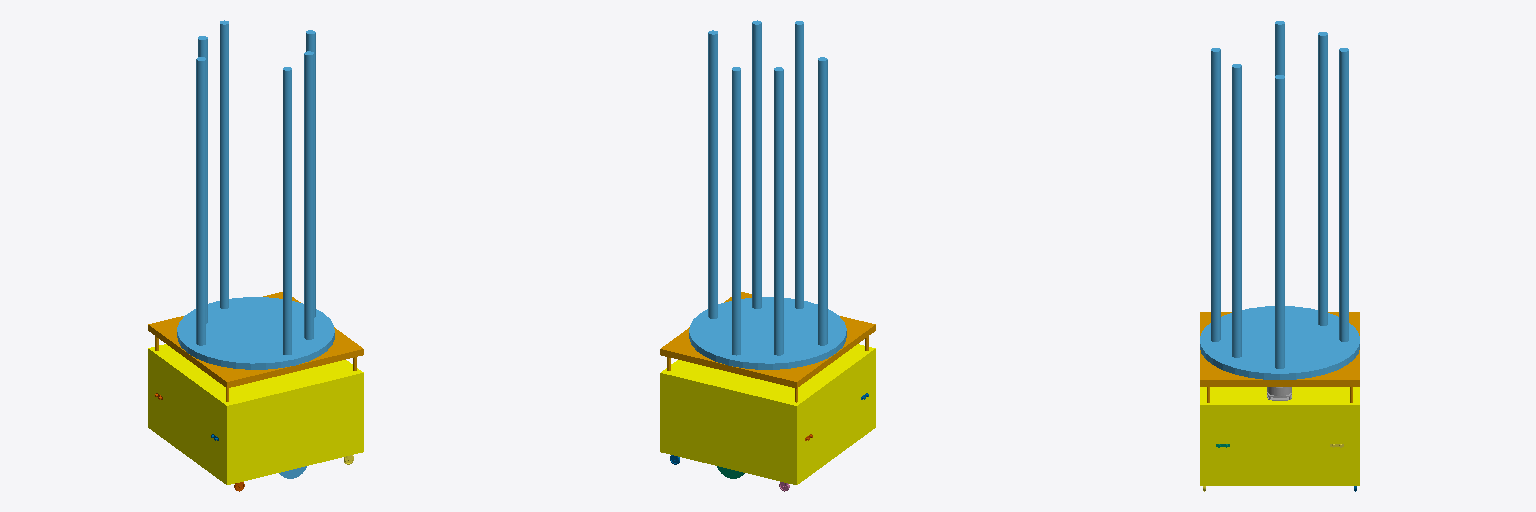
The robot description file, URDF, robot "uvd":
<?xml version="1.0" encoding="utf-8"?>

<robot
  name="uvd" xmlns:xacro="https://www.ros.org/wiki/xacro">
 

  <link
    name="base_footprint">
    <inertial>
      <origin
        xyz="0.0 0.0 0.0"
        rpy="0 0 0" />
      <mass
        value="10" />
      <inertia
        ixx="0.01"
        ixy="0.0"
        ixz="0.0"
        iyy="0.01"
        iyz="0.0"
        izz="0.01" />
    </inertial>
    <visual>
      <origin
        xyz="0 0 0"
        rpy="0 0 0" />
      <geometry>
        <mesh
          filename="package://uvd_description/meshes/base.stl" />
      </geometry>
      <material
        name="">
        <color
          rgba="1 1 0 1" />
      </material>
    </visual>
    <collision>
      <origin
        xyz="0 0 0"
        rpy="0 0 0" />
      <geometry>
	  <box size="0.45 0.45 0.25" />
      </geometry>
    </collision>
  </link>


  <link
    name="back_right_wheel">
    <inertial>
      <origin
        xyz="0.0 0.0 0.0"
        rpy="0 0 0" />
      <mass
        value="3" />
      <inertia
        ixx="0.01"
        ixy="0.0"
        ixz="0.0"
        iyy="0.01"
        iyz="0.0"
        izz="0.01" />
    </inertial>
    <visual>
      <origin
        xyz="0 0 0"
        rpy="0 0 0" />
      <geometry>
        <mesh
          filename="package://uvd_description/meshes/wheel.stl" />
      </geometry>
    </visual>
    <collision>
      <origin
        xyz="0 0 0"
        rpy="0 1.57075 1.57075" />
      <geometry>
	  <cylinder length="0.03" radius="0.05"/>
      </geometry>
    </collision>
  </link>
  <joint
    name="back_right_wheel_joint"
    type="continuous">
    <origin
      xyz="0 -0.2 -0.11"
      rpy="0 0 3.1416" />
    <parent
      link="base_footprint" />
    <child
      link="back_right_wheel" />
    <axis
      xyz="0 -1 0" />
  </joint>
  <link
    name="back_left_wheel">
    <inertial>
      <origin
        xyz="0.0 0.0 0.0"
        rpy="0 0 0" />
      <mass
        value="3" />
      <inertia
        ixx="0.01"
        ixy="0.0"
        ixz="0.0"
        iyy="0.01"
        iyz="0.0"
        izz="0.01" />
    </inertial>
    <visual>
      <origin
        xyz="0 0 0"
        rpy="0 0 0" />
      <geometry>
        <mesh
          filename="package://uvd_description/meshes/wheel.stl" />
      </geometry>
    </visual>
    <collision>
      <origin
        xyz="0 0 0"
        rpy="0 1.57075 1.57075" />
      <geometry>
	  <cylinder length="0.03" radius="0.05"/>
      </geometry>
    </collision>
  </link>
  <joint
    name="back_left_wheel_joint"
    type="continuous">
    <origin
      xyz="0 0.2 -0.11"
      rpy="0 0 0" />
    <parent
      link="base_footprint" />
    <child

      link="back_left_wheel" />
    <axis
      xyz="0 1 0" />
  </joint>

  <gazebo>
    <plugin filename="libgazebo_ros_diff_drive.so" name="differential_drive_controller_front">
      <legacyMode>false</legacyMode>
      <alwaysOn>true</alwaysOn>
      <updateRate>10</updateRate>
      <leftJoint>back_left_wheel_joint</leftJoint>
      <rightJoint>back_right_wheel_joint</rightJoint>
      <wheelSeparation>0.4</wheelSeparation>
      <wheelDiameter>0.2</wheelDiameter>
      <torque>10</torque>
      <commandTopic>cmd_vel</commandTopic>
      <odometryFrame>odom</odometryFrame>
      <odometryTopic>odom</odometryTopic>
      <robotBaseFrame>base_footprint</robotBaseFrame>
    </plugin>
  </gazebo>


  <link
    name="front_caster_right_wheel">
    <inertial>
      <origin
        xyz="0.0 0.0 0.0"
        rpy="0 0 0" />
      <mass
        value="3" />
      <inertia
        ixx="0.01"
        ixy="0.0"
        ixz="0.0"
        iyy="0.01"
        iyz="0.0"
        izz="0.01" />
    </inertial>
    <visual>
      <origin
        xyz="0 0 0"
        rpy="0 0 0" />
      <geometry>
        <mesh
          filename="package://uvd_description/meshes/caster.stl" />
      </geometry>
    </visual>
    <collision>
      <origin
        xyz="0.005 0 -0.0085"
        rpy="0 0 0" />
      <geometry>
	  <box size="0.037942 0.014811 0.037519" />
      </geometry>
    </collision>
  </link>
  <joint
    name="front_caster_right_wheel_joint"
    type="fixed">
    <origin
      xyz="0.18 -0.21 -0.1327"
      rpy="0 0 0" />
    <parent
      link="base_footprint" />
    <child

      link="front_caster_right_wheel" />
    <axis
      xyz="0 0 0" />
  </joint>
  <link
    name="front_caster_left_wheel">
    <inertial>
      <origin
        xyz="0.0 0.0 0.0"
        rpy="0 0 0" />
      <mass
        value="3" />
      <inertia
        ixx="0.01"
        ixy="0.0"
        ixz="0.0"
        iyy="0.01"
        iyz="0.0"
        izz="0.01" />
    </inertial>
    <visual>
      <origin
        xyz="0 0 0"
        rpy="0 0 0" />
      <geometry>
        <mesh
          filename="package://uvd_description/meshes/caster.stl" />
      </geometry>
    </visual>
    <collision>
      <origin
        xyz="0.005 0 -0.0085"
        rpy="0 0 0" />
      <geometry>
	  <box size="0.037942 0.014811 0.037519" />
      </geometry>
    </collision>
  </link>
  <joint
    name="front_caster_left_wheel_joint"
    type="fixed">
    <origin
      xyz="0.18 0.21 -0.1327"
      rpy="0 0 0" />
    <parent
      link="base_footprint" />
    <child
      link="front_caster_left_wheel" />
    <axis
      xyz="0 0 0" />
  </joint>

  <link
    name="back_caster_right_wheel">
    <inertial>
      <origin
        xyz="0.0 0.0 0.0"
        rpy="0 0 0" />
      <mass
        value="3" />
      <inertia
        ixx="0.01"
        ixy="0.0"
        ixz="0.0"
        iyy="0.01"
        iyz="0.0"
        izz="0.01" />
    </inertial>
    <visual>
      <origin
        xyz="0 0 0"
        rpy="0 0 0" />
      <geometry>
        <mesh
          filename="package://uvd_description/meshes/caster.stl" />
      </geometry>
    </visual>
    <collision>
      <origin
        xyz="0.005 0 -0.0085"
        rpy="0 0 0" />
      <geometry>
	  <box size="0.037942 0.014811 0.037519" />
      </geometry>
    </collision>
  </link>
  <joint
    name="back_caster_right_wheel_joint"
    type="fixed">
    <origin
      xyz="-0.18 -0.21 -0.1327"
      rpy="0 0 0" />
    <parent
      link="base_footprint" />
    <child
      link="back_caster_right_wheel" />
    <axis
      xyz="0 0 0" />
  </joint>
  <link
    name="back_caster_left_wheel">
    <inertial>
      <origin
        xyz="0.0 0.0 0.0"
        rpy="0 0 0" />
      <mass
        value="3" />
      <inertia
        ixx="0.01"
        ixy="0.0"
        ixz="0.0"
        iyy="0.01"
        iyz="0.0"
        izz="0.01" />
    </inertial>
    <visual>
      <origin
        xyz="0 0 0"
        rpy="0 0 0" />
      <geometry>
        <mesh
          filename="package://uvd_description/meshes/caster.stl" />
      </geometry>
    </visual>
    <collision>
      <origin
        xyz="0.005 0 -0.0085"
        rpy="0 0 0" />
      <geometry>
	  <box size="0.037942 0.014811 0.037519" />
      </geometry>
    </collision>
  </link>
  <joint
    name="back_caster_left_wheel_joint"
    type="fixed">
    <origin
      xyz="-0.18 0.21 -0.1327"
      rpy="0 0 0" />
    <parent
      link="base_footprint" />
    <child
      link="back_caster_left_wheel" />
    <axis
      xyz="0 0 0" />
  </joint>

  <link
    name="lidar">
    <inertial>
      <origin
        xyz="0.0 0.0 0.0"
        rpy="0 0 0" />
      <mass
        value="3" />
      <inertia
        ixx="0.01"
        ixy="0.0"
        ixz="0.0"
        iyy="0.01"
        iyz="0.0"
        izz="0.01" />
    </inertial>
    <visual>
      <origin
        xyz="0 0 0"
        rpy="0 0 0" />
      <geometry>
        <mesh
          filename="package://uvd_description/meshes/lidar.STL" />
      </geometry>
    </visual>
    <collision>
      <origin
        xyz="0 0 0"
        rpy="0 0 0" />
      <geometry>
        <mesh
          filename="package://uvd_description/meshes/lidar.STL" />
      </geometry>
    </collision>
  </link>
  <joint
    name="lidar_joint"
    type="fixed">
    <origin
      xyz="0.16 0 0.15"
      rpy="0 0 0" />
    <parent
      link="base_footprint" />
    <child
      link="lidar" />
    <axis
      xyz="0 0 0" />
  </joint>

  <gazebo reference="lidar">
    <sensor type="ray" name="lds_lfcd_sensor">
      <pose>0 0 0 0 0 0</pose>
      <visualize>false</visualize>
      <update_rate>5</update_rate>
      <ray>
        <scan>
          <horizontal>
            <samples>360</samples>
            <resolution>1</resolution>
            <min_angle>0.0</min_angle>
            <max_angle>6.28319</max_angle>
          </horizontal>
        </scan>
        <range>
          <min>0.120</min>
          <max>30.0</max>
          <resolution>0.015</resolution>
        </range>
        <noise>
          <type>gaussian</type>
          <mean>0.0</mean>
          <stddev>0.01</stddev>
        </noise>
      </ray>
      <plugin name="gazebo_ros_lds_lfcd_controller" filename="libgazebo_ros_laser.so">
        <topicName>scan</topicName>
        <frameName>lidar</frameName>
      </plugin>
    </sensor>
  </gazebo>


  <link
    name="shelf">
    <inertial>
      <origin
        xyz="0.0 0.0 0.0"
        rpy="0 0 0" />
      <mass
        value="3" />
      <inertia
        ixx="0.01"
        ixy="0.0"
        ixz="0.0"
        iyy="0.01"
        iyz="0.0"
        izz="0.01" />
    </inertial>
    <visual>
      <origin
        xyz="0 0 0"
        rpy="0 0 0" />
      <geometry>
        <mesh
          filename="package://uvd_description/meshes/shelf.stl" />
      </geometry>
    </visual>
    <collision>
      <origin
        xyz="0 0 0"
        rpy="0 0 0" />
      <geometry>
        <mesh
          filename="package://uvd_description/meshes/shelf.stl" />
      </geometry>
    </collision>
  </link>
  <joint
    name="shelf_joint"
    type="fixed">
    <origin
      xyz="0 0 0.19"
      rpy="0 0 0" />
    <parent
      link="base_footprint" />
    <child
      link="shelf" />
    <axis
      xyz="0 0 0" />
  </joint>

  <link
    name="circuler">
    <inertial>
      <origin
        xyz="0.0 0.0 0.0"
        rpy="0 0 0" />
      <mass
        value="3" />
      <inertia
        ixx="0.01"
        ixy="0.0"
        ixz="0.0"
        iyy="0.01"
        iyz="0.0"
        izz="0.01" />
    </inertial>
    <visual>
      <origin
        xyz="0 0 0"
        rpy="0 0 0" />
      <geometry>
        <mesh
          filename="package://uvd_description/meshes/circuler.stl" />
      </geometry>
    </visual>
    <collision>
      <origin
        xyz="0 0 0"
        rpy="0 0 0" />
      <geometry>
        <mesh
          filename="package://uvd_description/meshes/circuler.stl" />
      </geometry>
    </collision>
  </link>
  <joint
    name="circuler_joint"
    type="fixed">
    <origin
      xyz="0 0 0.21"
      rpy="0 0 0" />
    <parent
      link="base_footprint" />
    <child
      link="circuler" />
    <axis
      xyz="0 0 0" />
  </joint>

  <link
    name="fr_sonar">
    <inertial>
      <origin
        xyz="0.0 0.0 0.0"
        rpy="0 0 0" />
      <mass
        value="3" />
      <inertia
        ixx="0.01"
        ixy="0.0"
        ixz="0.0"
        iyy="0.01"
        iyz="0.0"
        izz="0.01" />
    </inertial>
    <visual>
      <origin
        xyz="0 0 0"
        rpy="0 0 0" />
      <geometry>
        <mesh
          filename="package://uvd_description/meshes/sonar.stl" />
      </geometry>
    </visual>
    <collision>
      <origin
        xyz="0 0 0"
        rpy="0 0 0" />
      <geometry>
        <mesh
          filename="package://uvd_description/meshes/sonar.stl" />
      </geometry>
    </collision>
  </link>
  <joint
    name="fr_joint"
    type="fixed">
    <origin
      xyz="0.225 -0.16 0"
      rpy="0 0 0" />
    <parent
      link="base_footprint" />
    <child
      link="fr_sonar" />
    <axis
      xyz="0 0 0" />
  </joint>

    <gazebo reference="fr_sonar">
      <sensor type="ray" name="fr_sonar">
        <always_on>true</always_on>
        <update_rate>10</update_rate>
        <pose>0 0 0 0 0 0</pose>
        <visualize>false</visualize>
        <ray>
          <scan>
            <horizontal>
              <samples>3</samples>
              <resolution>1</resolution>
              <min_angle>-0.698111111111111</min_angle>
              <max_angle> 0.698111111111111</max_angle>
            </horizontal>
            <vertical>
              <samples>3</samples>
              <resolution>1</resolution>
              <min_angle>-0.698111111111111</min_angle>
              <max_angle> 0.698111111111111</max_angle>
            </vertical>
          </scan>
          <range>
            <min>0.03</min>
            <max>3.0</max>
            <resolution>0.01</resolution>
          </range>
        </ray>

        <plugin name="gazebo_ros_fr_sonar_controller" filename="libhector_gazebo_ros_sonar.so">
          <gaussianNoise>0.005</gaussianNoise>
          <topicName>fr_scan</topicName>
          <frameId>fr_sonar</frameId>
        </plugin>
      </sensor>
    </gazebo>

  <link
    name="fl_sonar">
    <inertial>
      <origin
        xyz="0.0 0.0 0.0"
        rpy="0 0 0" />
      <mass
        value="3" />
      <inertia
        ixx="0.01"
        ixy="0.0"
        ixz="0.0"
        iyy="0.01"
        iyz="0.0"
        izz="0.01" />
    </inertial>
    <visual>
      <origin
        xyz="0 0 0"
        rpy="0 0 0" />
      <geometry>
        <mesh
          filename="package://uvd_description/meshes/sonar.stl" />
      </geometry>
    </visual>
    <collision>
      <origin
        xyz="0 0 0"
        rpy="0 0 0" />
      <geometry>
        <mesh
          filename="package://uvd_description/meshes/sonar.stl" />
      </geometry>
    </collision>
  </link>
  <joint
    name="fl_joint"
    type="fixed">
    <origin
      xyz="0.225 0.16 0"
      rpy="0 0 0" />
    <parent
      link="base_footprint" />
    <child
      link="fl_sonar" />
    <axis
      xyz="0 0 0" />
  </joint>

    <gazebo reference="fl_sonar">
      <sensor type="ray" name="fl_sonar">
        <always_on>true</always_on>
        <update_rate>10</update_rate>
        <pose>0 0 0 0 0 0</pose>
        <visualize>false</visualize>
        <ray>
          <scan>
            <horizontal>
              <samples>3</samples>
              <resolution>1</resolution>
              <min_angle>-0.698111111111111</min_angle>
              <max_angle> 0.698111111111111</max_angle>
            </horizontal>
            <vertical>
              <samples>3</samples>
              <resolution>1</resolution>
              <min_angle>-0.698111111111111</min_angle>
              <max_angle> 0.698111111111111</max_angle>
            </vertical>
          </scan>
          <range>
            <min>0.03</min>
            <max>3.0</max>
            <resolution>0.01</resolution>
          </range>
        </ray>

        <plugin name="gazebo_ros_fl_sonar_controller" filename="libhector_gazebo_ros_sonar.so">
          <gaussianNoise>0.005</gaussianNoise>
          <topicName>fl_scan</topicName>
          <frameId>fl_sonar</frameId>
        </plugin>
      </sensor>
    </gazebo>

  <link
    name="br_sonar">
    <inertial>
      <origin
        xyz="0.0 0.0 0.0"
        rpy="0 0 0" />
      <mass
        value="3" />
      <inertia
        ixx="0.01"
        ixy="0.0"
        ixz="0.0"
        iyy="0.01"
        iyz="0.0"
        izz="0.01" />
    </inertial>
    <visual>
      <origin
        xyz="0 0 0"
        rpy="0 0 0" />
      <geometry>
        <mesh
          filename="package://uvd_description/meshes/sonar.stl" />
      </geometry>
    </visual>
    <collision>
      <origin
        xyz="0 0 0"
        rpy="0 0 0" />
      <geometry>
        <mesh
          filename="package://uvd_description/meshes/sonar.stl" />
      </geometry>
    </collision>
  </link>
  <joint
    name="br_joint"
    type="fixed">
    <origin
      xyz="-0.225 -0.16 0"
      rpy="0 0 3.14159" />
    <parent
      link="base_footprint" />
    <child
      link="br_sonar" />
    <axis
      xyz="0 0 0" />
  </joint>

    <gazebo reference="br_sonar">
      <sensor type="ray" name="br_sonar">
        <always_on>true</always_on>
        <update_rate>10</update_rate>
        <pose>0 0 0 0 0 0</pose>
        <visualize>false</visualize>
        <ray>
          <scan>
            <horizontal>
              <samples>3</samples>
              <resolution>1</resolution>
              <min_angle>-0.698111111111111</min_angle>
              <max_angle> 0.698111111111111</max_angle>
            </horizontal>
            <vertical>
              <samples>3</samples>
              <resolution>1</resolution>
              <min_angle>-0.698111111111111</min_angle>
              <max_angle> 0.698111111111111</max_angle>
            </vertical>
          </scan>
          <range>
            <min>0.03</min>
            <max>3.0</max>
            <resolution>0.01</resolution>
          </range>
        </ray>

        <plugin name="gazebo_ros_br_sonar_controller" filename="libhector_gazebo_ros_sonar.so">
          <gaussianNoise>0.005</gaussianNoise>
          <topicName>br_scan</topicName>
          <frameId>br_sonar</frameId>
        </plugin>
      </sensor>
    </gazebo>

  <link
    name="bl_sonar">
    <inertial>
      <origin
        xyz="0.0 0.0 0.0"
        rpy="0 0 0" />
      <mass
        value="3" />
      <inertia
        ixx="0.01"
        ixy="0.0"
        ixz="0.0"
        iyy="0.01"
        iyz="0.0"
        izz="0.01" />
    </inertial>
    <visual>
      <origin
        xyz="0 0 0"
        rpy="0 0 0" />
      <geometry>
        <mesh
          filename="package://uvd_description/meshes/sonar.stl" />
      </geometry>
    </visual>
    <collision>
      <origin
        xyz="0 0 0"
        rpy="0 0 0" />
      <geometry>
        <mesh
          filename="package://uvd_description/meshes/sonar.stl" />
      </geometry>
    </collision>
  </link>
  <joint
    name="bl_joint"
    type="fixed">
    <origin
      xyz="-0.225 0.16 0"
      rpy="0 0 3.14159" />
    <parent
      link="base_footprint" />
    <child
      link="bl_sonar" />
    <axis
      xyz="0 0 0" />
  </joint>

    <gazebo reference="bl_sonar">
      <sensor type="ray" name="bl_sonar">
        <always_on>true</always_on>
        <update_rate>10</update_rate>
        <pose>0 0 0 0 0 0</pose>
        <visualize>false</visualize>
        <ray>
          <scan>
            <horizontal>
              <samples>3</samples>
              <resolution>1</resolution>
              <min_angle>-0.698111111111111</min_angle>
              <max_angle> 0.698111111111111</max_angle>
            </horizontal>
            <vertical>
              <samples>3</samples>
              <resolution>1</resolution>
              <min_angle>-0.698111111111111</min_angle>
              <max_angle> 0.698111111111111</max_angle>
            </vertical>
          </scan>
          <range>
            <min>0.03</min>
            <max>3.0</max>
            <resolution>0.01</resolution>
          </range>
        </ray>

        <plugin name="gazebo_ros_bl_sonar_controller" filename="libhector_gazebo_ros_sonar.so">
          <gaussianNoise>0.005</gaussianNoise>
          <topicName>bl_scan</topicName>
          <frameId>bl_sonar</frameId>
        </plugin>
      </sensor>
    </gazebo>

  <link name="imu_link"/>
  <joint name="imu_joint" type="fixed">
    <parent link="base_footprint"/>
    <child link="imu_link"/>
    <origin xyz="-0.032 0 0.068" rpy="0 0 0"/>
  </joint>

 <gazebo>
    <plugin name="imu_plugin" filename="libgazebo_ros_imu.so">
      <alwaysOn>true</alwaysOn>
      <bodyName>imu_link</bodyName>
      <frameName>imu_link</frameName>
      <topicName>imu</topicName>
      <serviceName>imu_service</serviceName>
      <gaussianNoise>0.0</gaussianNoise>
      <updateRate>200</updateRate>
      <imu>
        <noise>
          <type>gaussian</type>
          <rate>
            <mean>0.0</mean>
            <stddev>2e-4</stddev>
            <bias_mean>0.0000075</bias_mean>
            <bias_stddev>0.0000008</bias_stddev>
          </rate>
          <accel>
            <mean>0.0</mean>
            <stddev>1.7e-2</stddev>
            <bias_mean>0.1</bias_mean>
            <bias_stddev>0.001</bias_stddev>
          </accel>
        </noise>
      </imu>
    </plugin>
  </gazebo>

</robot>

--- Render facts (derived) ---
Views: 3 orthographic renders of the robot side by side, from view 1: azimuth 30°, elevation 25°; view 2: azimuth 150°, elevation 25°; view 3: azimuth 270°, elevation 25°.
Robot: uvd — 15 links, 14 joints (2 continuous, 12 fixed); root link base_footprint; default pose: all joints at 0.
Links seen in each view (by area): view 1: base_footprint, circuler, shelf; view 2: circuler, base_footprint, shelf; view 3: circuler, base_footprint, shelf.
Link boxes in pixels (x1,y1,x2,y2): base_footprint: [148, 344, 363, 484]; circuler: [177, 20, 334, 369]; shelf: [148, 292, 363, 401]; circuler: [689, 20, 846, 369]; base_footprint: [660, 344, 875, 484]; shelf: [660, 292, 875, 402]; circuler: [1200, 21, 1359, 379]; base_footprint: [1200, 387, 1359, 485]; shelf: [1200, 312, 1359, 402].
Size in the robot's own frame: 0.466 by 0.45 by 1.28 metres.
14 mesh visuals loaded from 7 distinct referenced files (7 binary STL).
